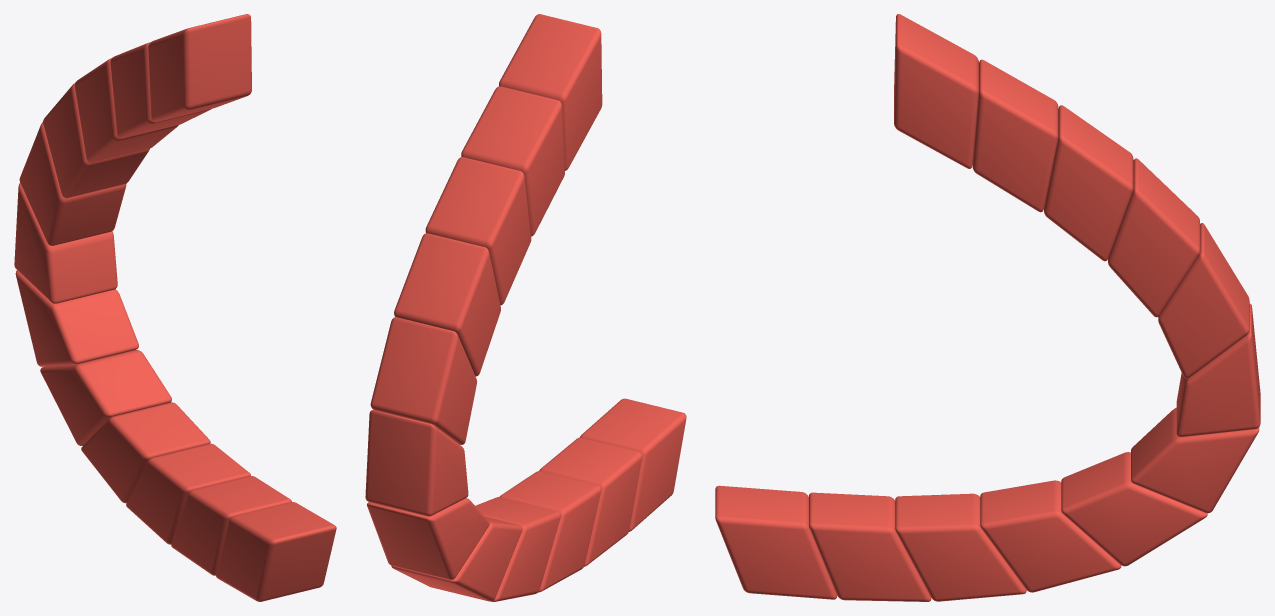
Rendered from dal.fbx.
3 views of the same model, side by side, from view 1: azimuth 30°, elevation 25°; view 2: azimuth 150°, elevation 25°; view 3: azimuth 270°, elevation 25° (orthographic). The views are drawn at different scales.
Visible parts, largest first — view 1: Cube; view 2: Cube; view 3: Cube.
Boxes of the visible parts, x1=… form: Cube: x1=14, y1=14, x2=336, y2=601; Cube: x1=365, y1=14, x2=686, y2=601; Cube: x1=715, y1=14, x2=1260, y2=601.
Bounding box in the file's own units: 60 × 450 × 398.
